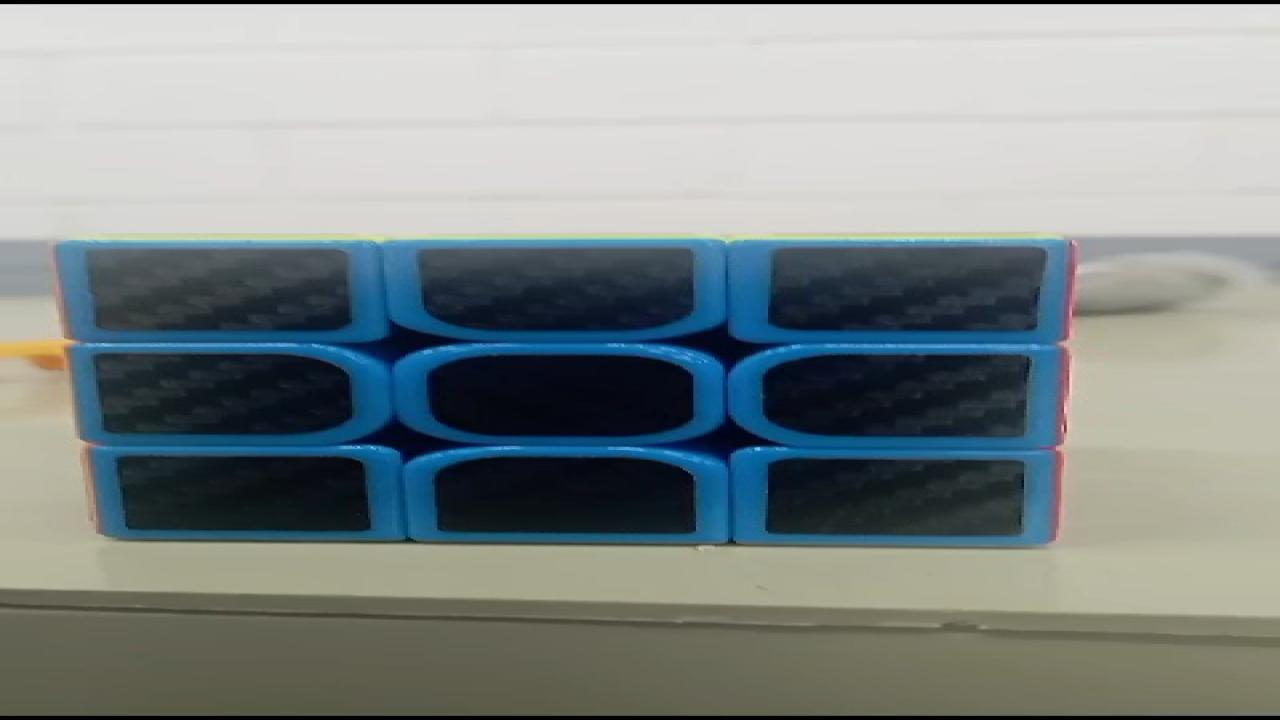Cube: (48, 232, 1083, 548)
